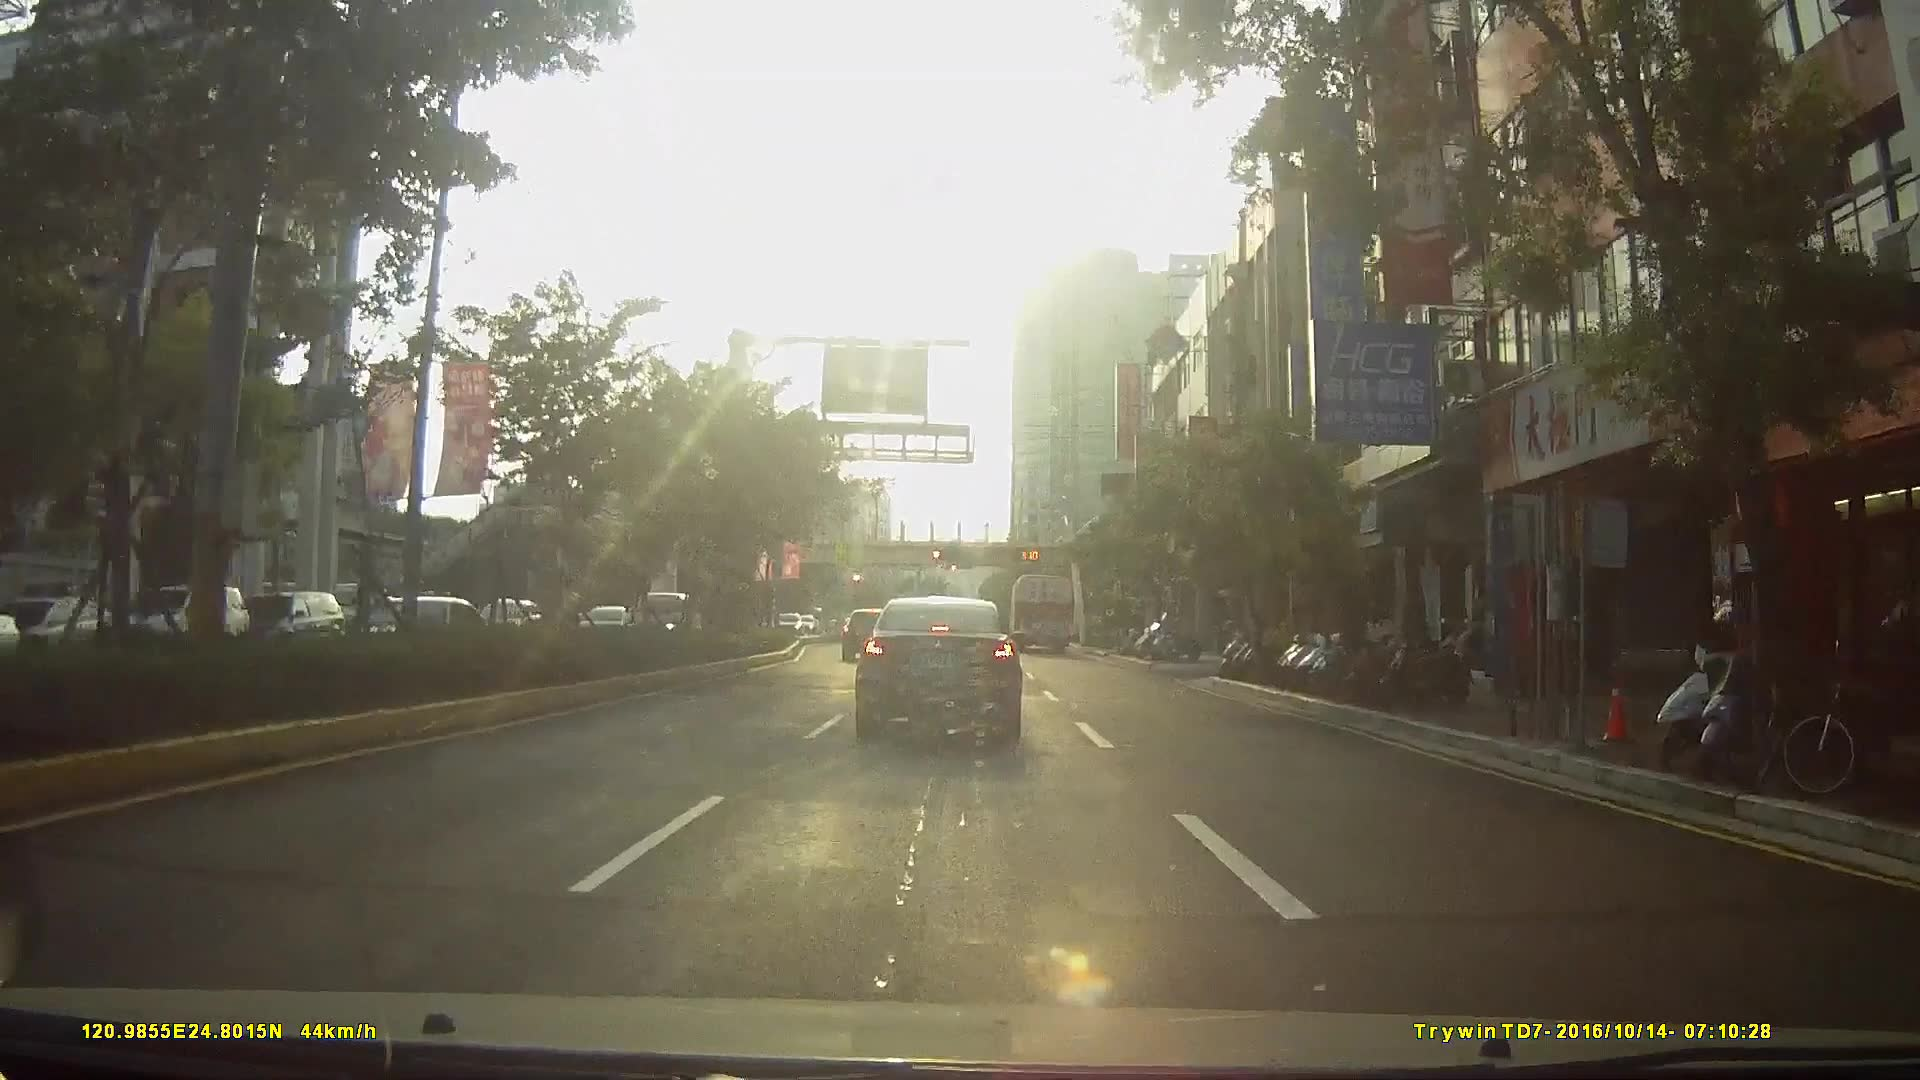vehicle: (855, 595, 1025, 744), (117, 582, 243, 655), (229, 589, 342, 653), (1007, 570, 1077, 653), (839, 605, 894, 659)
